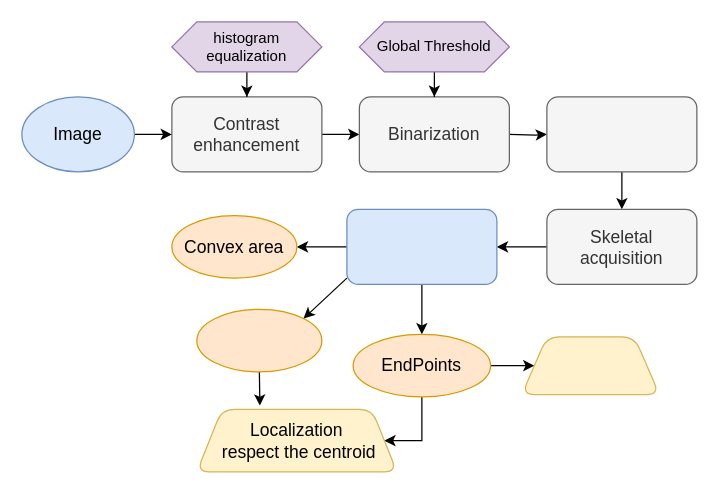
Image size: 719x494. Some labels were removed from this diagram. The box of each missing label's shape, as (x1, y1, x2, y2) in pixels:
Centroid: (196, 308, 322, 372)
Closing operation: (546, 96, 697, 172)
Number of endpoints: (521, 336, 659, 394)
Properties extraction: (346, 208, 497, 284)
